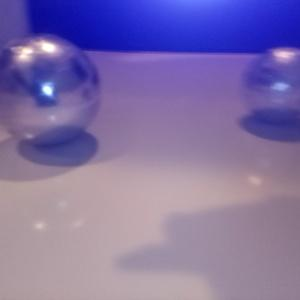alive_ball: (1, 33, 102, 147), (241, 47, 300, 125)
